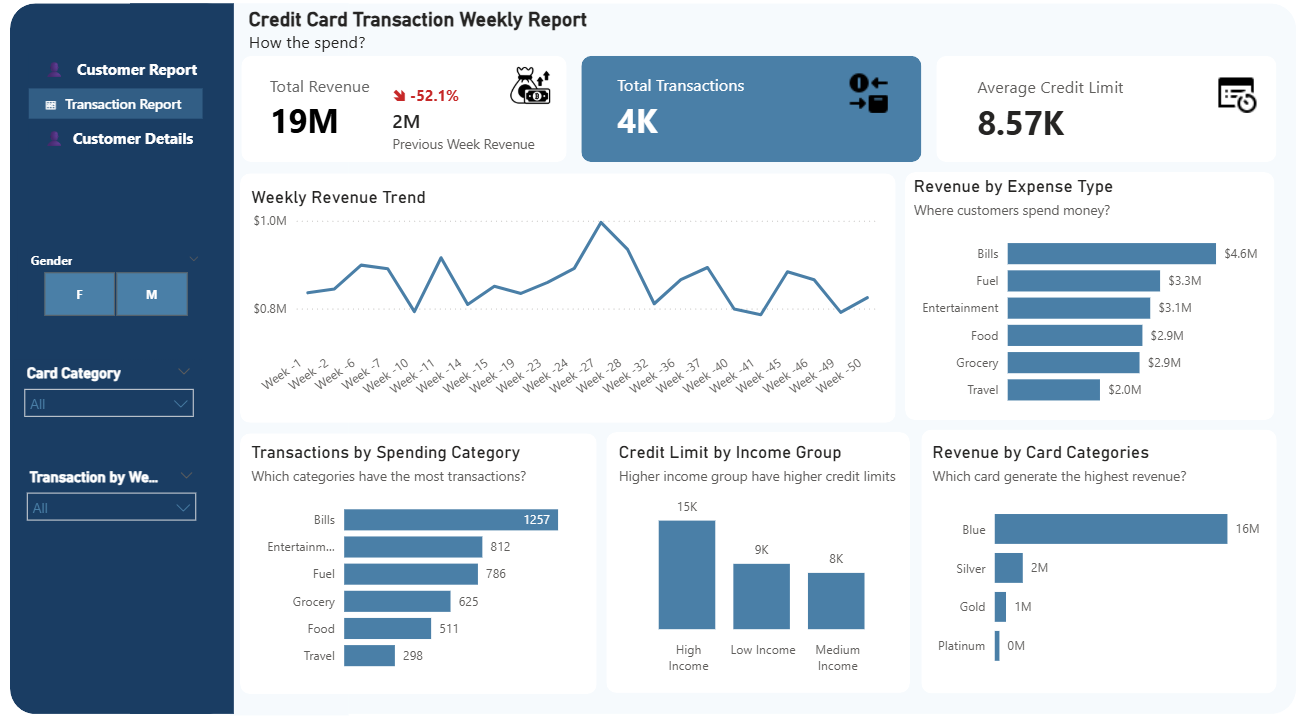

What the dashboard file says about the page in this screenshot:
{"tool":"powerbi","page":{"name":"🗠  Transaction Report","canvas":[1280,720],"ordinal":1},"visuals":[{"type":"group","id":"g1","title":"Background ","box":[10,11.4,1258.6,697.1],"z":0},{"type":"shape","box":[10,11.4,217.7,695.5],"z":0,"group":"g3"},{"type":"group","id":"g2","title":"Right Background","box":[225.4,11.6,1043.1,696.9],"z":0,"group":"g1"},{"type":"shape","box":[248.7,11.9,1019.8,695.5],"z":0,"group":"g2"},{"type":"shape","box":[235.8,62.9,318.5,104.3],"z":0,"group":"g7"},{"type":"shape","box":[568.6,62.9,332.9,104.3],"z":0,"group":"g5"},{"type":"shape","box":[915.7,62.9,332.9,104.3],"z":0,"group":"g4"},{"type":"group","id":"g3","title":"Left Background","box":[10,11.4,219.1,695.5],"z":1000,"group":"g1"},{"type":"shape","box":[127.4,11.4,101.7,695.5],"z":1000,"group":"g3"},{"type":"textbox","box":[238.6,11.4,408.6,67.1],"z":1000},{"type":"shape","box":[225.4,11.6,116,696.9],"z":1000,"group":"g2"},{"type":"cardVisual","fields":{"Data":["CreditCard.Total Transactions"]},"box":[574.2,63.1,216.3,100],"z":1000,"group":"g5"},{"type":"cardVisual","fields":{"Data":["CreditCard.Average Credit Limit"]},"box":[927.1,65.8,214.3,100],"z":1000,"group":"g4"},{"type":"cardVisual","fields":{"Data":["CreditCard.Total Revenue"]},"box":[234.3,67.3,164.1,91.1],"z":1000,"group":"g7"},{"type":"image","box":[491.4,71.7,54.3,41.1],"z":2000,"group":"g7"},{"type":"image","box":[817.9,78.6,60.5,40],"z":2000,"group":"g5"},{"type":"image","box":[1178.6,78.6,60,40],"z":2000,"group":"g4"},{"type":"slicer","fields":{"Values":["customer.Gender"]},"box":[17.1,250,190,74.3],"z":2000},{"type":"slicer","fields":{"Values":["CreditCard.Card_Category"]},"box":[12.9,360,185.7,70],"z":3000},{"type":"slicer","fields":{"Values":["CreditCard.Week Label"]},"box":[15.7,461.4,185.7,70],"z":4000},{"type":"pageNavigator","box":[28.6,60,170,100],"z":5000},{"type":"shape","box":[234.3,177.1,641.4,244.3],"z":6000},{"type":"shape","box":[593,429.9,297.2,255.4],"z":7000},{"type":"shape","box":[885.7,175.7,361.4,242.9],"z":8000},{"type":"lineChart","title":"Weekly Revenue Trend","fields":{"Y":["CreditCard.Total Revenue"],"Category":["CreditCard.Week Label"]},"box":[240.9,190.4,623.3,225.1],"z":9000},{"type":"clusteredBarChart","title":"Revenue by Expense Type","fields":{"Category":["CreditCard.Expenditure_Type"],"Y":["CreditCard.Total Revenue"]},"box":[888.6,180,355.7,235.7],"z":10000},{"type":"shape","box":[235.2,431.4,349.1,255.4],"z":12000},{"type":"shape","box":[901.7,428.5,347.7,258.3],"z":13000},{"type":"clusteredBarChart","title":"Transactions by Spending Category","fields":{"Category":["CreditCard.Expenditure_Type"],"Y":["CreditCard.Total Transactions"]},"box":[240.9,440,333.3,235.2],"z":14000},{"type":"clusteredBarChart","title":"Revenue by Card Categories ","fields":{"Category":["CreditCard.Card_Category"],"Y":["CreditCard.Total Revenue"]},"box":[907.5,440,333.3,235.2],"z":15000},{"type":"group","id":"g4","title":"Card 3","box":[915.7,62.9,332.9,104.3],"z":16000},{"type":"group","id":"g5","title":"Card 2","box":[568.6,62.9,332.9,104.3],"z":17000},{"type":"group","id":"g6","title":"Group 1","box":[234.3,62.9,321,109.7],"z":18000},{"type":"group","id":"g7","title":"Card 1","box":[234.3,62.9,320,104.3],"z":18000,"group":"g6"},{"type":"clusteredColumnChart","title":"Credit Limit by Income Group","fields":{"Y":["CreditCard.Average Credit Limit"],"Category":["customer.Income Group"]},"box":[600.2,440,282.8,233.7],"z":18002},{"type":"cardVisual","title":"KPI WoW","fields":{"Data":["CreditCard.WoW %"]},"box":[354.3,72.9,140,54.3],"z":20000,"group":"g6"},{"type":"cardVisual","title":"KPI PV revenue","fields":{"Data":["CreditCard.Previous Week Revenue"]},"box":[354.3,98.6,201,74],"z":21000,"group":"g6"}]}

Visuals, with their boxes in screenshot pixels (x1, y1, x2, y2), scaled from the page's 1280x720 canvas onto the 1307x723 screenshot:
"Background " group: x1=10 y1=11 x2=1295 y2=711
shape: x1=10 y1=11 x2=233 y2=710
"Right Background" group: x1=230 y1=12 x2=1295 y2=711
shape: x1=254 y1=12 x2=1295 y2=710
shape: x1=241 y1=63 x2=566 y2=168
shape: x1=581 y1=63 x2=921 y2=168
shape: x1=935 y1=63 x2=1275 y2=168
"Left Background" group: x1=10 y1=11 x2=234 y2=710
shape: x1=130 y1=11 x2=234 y2=710
textbox: x1=244 y1=11 x2=661 y2=79
shape: x1=230 y1=12 x2=349 y2=711
cardVisual - CreditCard.Total Transactions: x1=586 y1=63 x2=807 y2=164
cardVisual - CreditCard.Average Credit Limit: x1=947 y1=66 x2=1165 y2=166
cardVisual - CreditCard.Total Revenue: x1=239 y1=68 x2=407 y2=159
image: x1=502 y1=72 x2=557 y2=113
image: x1=835 y1=79 x2=897 y2=119
image: x1=1203 y1=79 x2=1265 y2=119
slicer - customer.Gender: x1=17 y1=251 x2=211 y2=326
slicer - CreditCard.Card_Category: x1=13 y1=362 x2=203 y2=432
slicer - CreditCard.Week Label: x1=16 y1=463 x2=206 y2=534
pageNavigator: x1=29 y1=60 x2=203 y2=161
shape: x1=239 y1=178 x2=894 y2=423
shape: x1=606 y1=432 x2=909 y2=688
shape: x1=904 y1=176 x2=1273 y2=420
"Weekly Revenue Trend" lineChart: x1=246 y1=191 x2=882 y2=417
"Revenue by Expense Type" clusteredBarChart: x1=907 y1=181 x2=1271 y2=417
shape: x1=240 y1=433 x2=597 y2=690
shape: x1=921 y1=430 x2=1276 y2=690
"Transactions by Spending Category" clusteredBarChart: x1=246 y1=442 x2=586 y2=678
"Revenue by Card Categories " clusteredBarChart: x1=927 y1=442 x2=1267 y2=678
"Card 3" group: x1=935 y1=63 x2=1275 y2=168
"Card 2" group: x1=581 y1=63 x2=921 y2=168
"Group 1" group: x1=239 y1=63 x2=567 y2=173
"Card 1" group: x1=239 y1=63 x2=566 y2=168
"Credit Limit by Income Group" clusteredColumnChart: x1=613 y1=442 x2=902 y2=677
"KPI WoW" cardVisual: x1=362 y1=73 x2=505 y2=128
"KPI PV revenue" cardVisual: x1=362 y1=99 x2=567 y2=173
